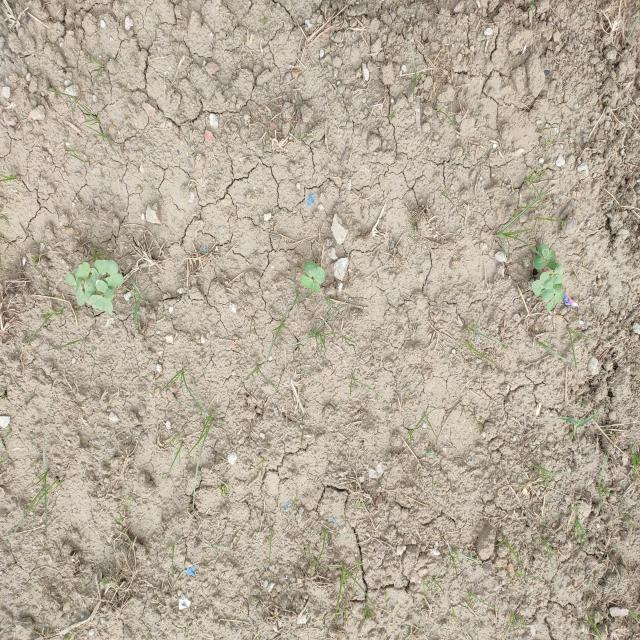seedling_s2: (303, 261, 325, 284), (72, 268, 85, 306), (88, 295, 113, 314), (92, 260, 119, 276), (96, 279, 115, 301), (546, 289, 565, 311), (533, 244, 549, 270), (541, 283, 562, 302), (301, 275, 320, 293), (103, 273, 124, 289), (84, 277, 96, 303), (546, 250, 559, 270), (77, 261, 90, 280), (532, 280, 545, 297), (540, 272, 553, 289), (90, 268, 100, 289), (65, 273, 77, 290), (551, 264, 565, 277), (551, 273, 563, 286)
